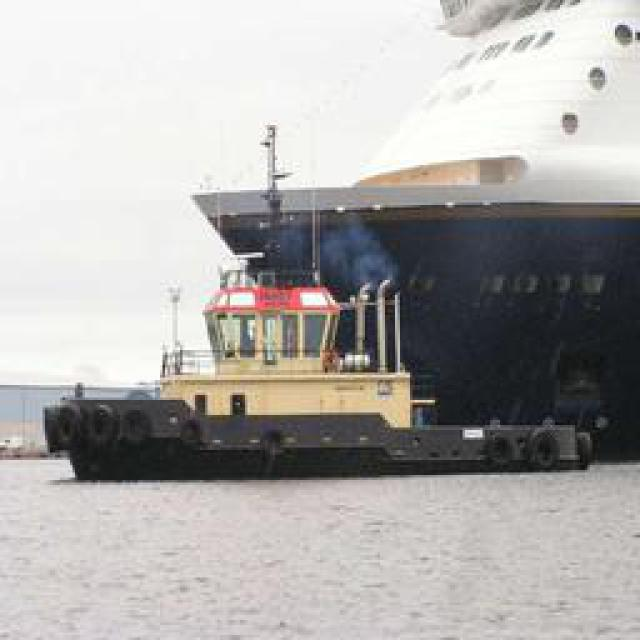Ship: (38, 122, 633, 472)
